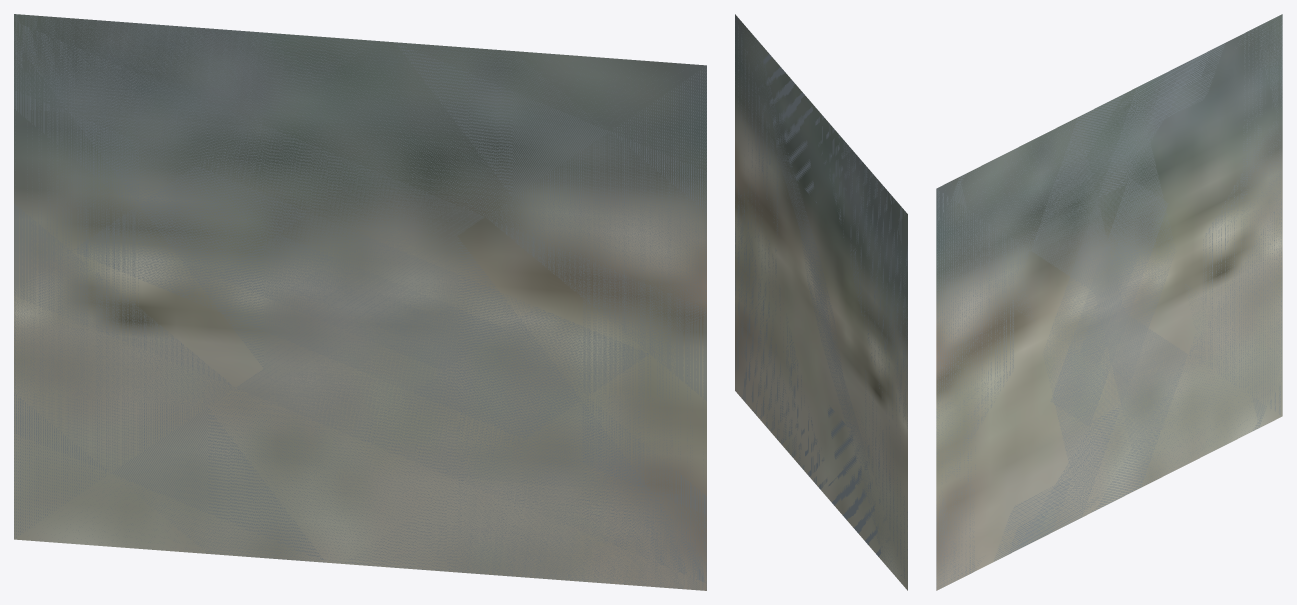
Rendered from 西庸城堡506.dae.
3 views of the same model, side by side, from view 1: azimuth 30°, elevation 25°; view 2: azimuth 150°, elevation 25°; view 3: azimuth 270°, elevation 25° (orthographic). The views are drawn at different scales.
Visible parts, largest first — view 1: SketchUp; view 2: SketchUp; view 3: SketchUp.
Boxes of the visible parts, box(x1,y1,x2,y2) form: SketchUp: box(14, 14, 706, 590); SketchUp: box(735, 14, 907, 590); SketchUp: box(936, 14, 1282, 590).
Bounding box in the file's own units: 62.24 × 52.15 × 66.93.
